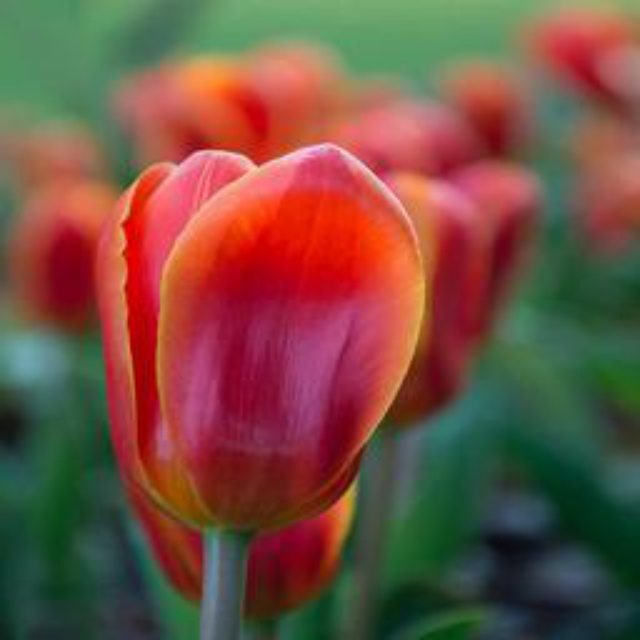tulip: (92, 158, 428, 549)
